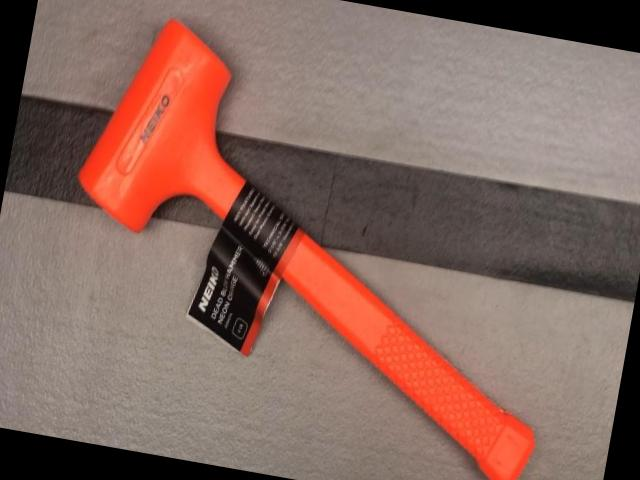hammer: (36, 4, 598, 480)
